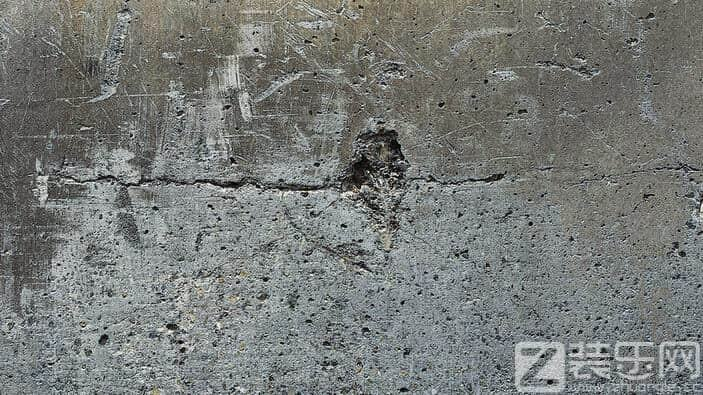Crack: (57, 170, 509, 190)
Spalling: (1, 1, 703, 395), (336, 128, 411, 253)
